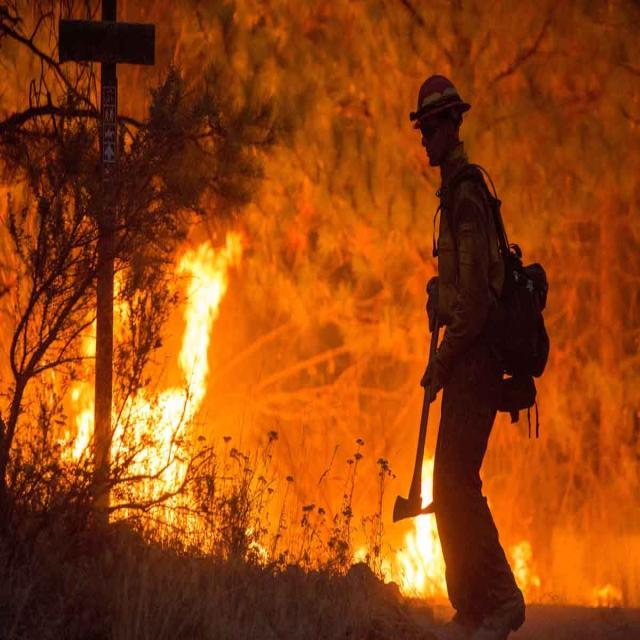Fire: (59, 241, 244, 478)
